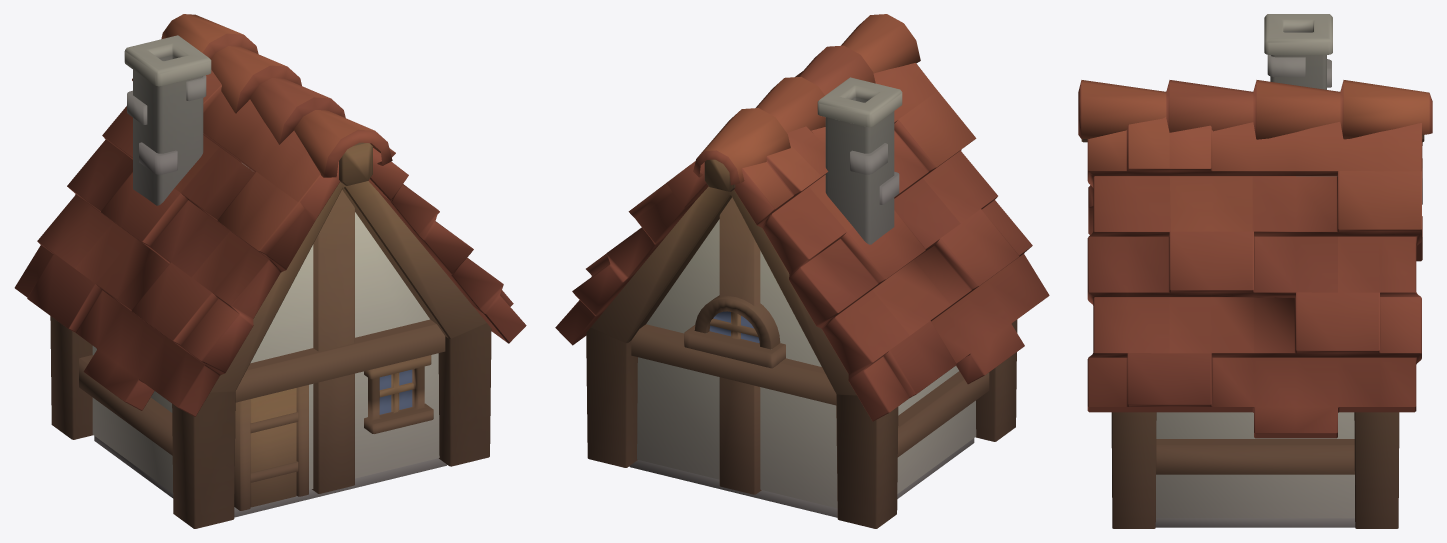
The model's file is house_1.fbx.
The picture shows the model from 3 angles, left to right: view 1: azimuth 30°, elevation 25°; view 2: azimuth 150°, elevation 25°; view 3: azimuth 270°, elevation 25°; orthographic projection. The views are drawn at different scales.
Parts seen in each view (by area): view 1: chonkyHouse1; view 2: chonkyHouse1; view 3: chonkyHouse1.
Boxes of the visible parts, left/top/right/bottom form: chonkyHouse1: left=14, top=14, right=526, bottom=528; chonkyHouse1: left=555, top=14, right=1049, bottom=528; chonkyHouse1: left=1078, top=14, right=1432, bottom=528.
Bounding box in the file's own units: 403 × 417 × 332.
